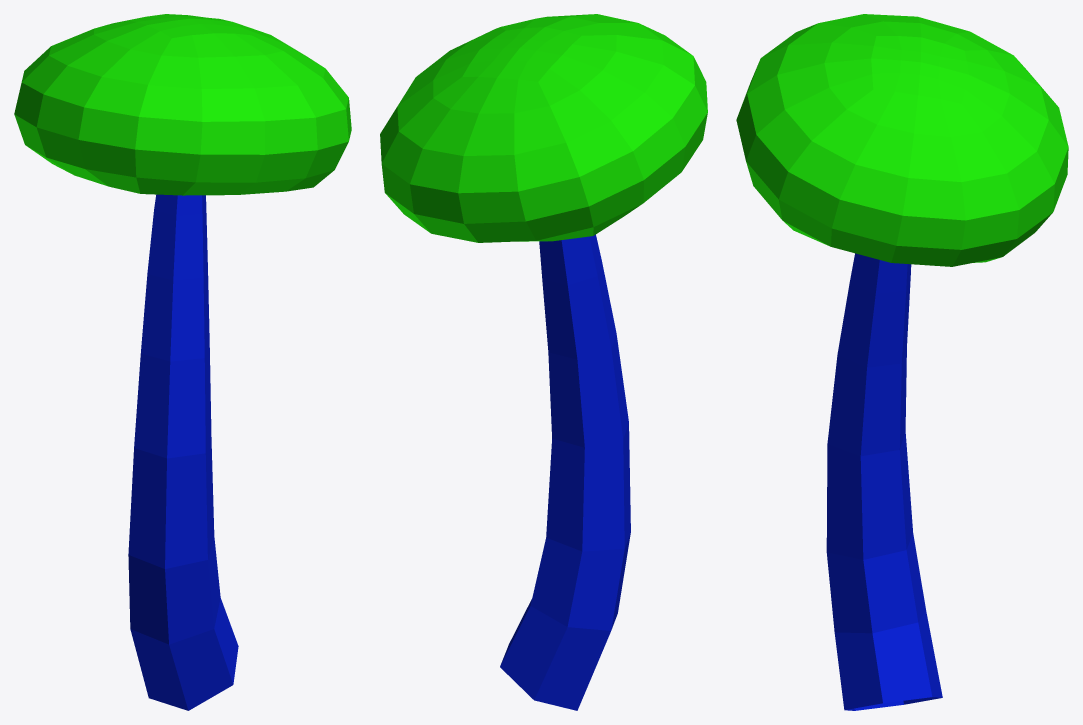
Rendered from Champis61.fbx.
The picture shows the model from 3 angles, left to right: view 1: azimuth 30°, elevation 25°; view 2: azimuth 150°, elevation 25°; view 3: azimuth 270°, elevation 25°; orthographic projection.
Visible parts, largest first — view 1: AgrietadaL, Plane.001; view 2: AgrietadaL, Plane.001; view 3: AgrietadaL, Plane.001.
Part boxes in pixels (<box>): AgrietadaL: <box>14,14,351,195</box>; Plane.001: <box>128,194,238,710</box>; AgrietadaL: <box>380,14,707,242</box>; Plane.001: <box>500,234,630,710</box>; AgrietadaL: <box>736,14,1068,266</box>; Plane.001: <box>826,253,942,710</box>.
Size of the model in its own units: 300 by 664 by 297.
